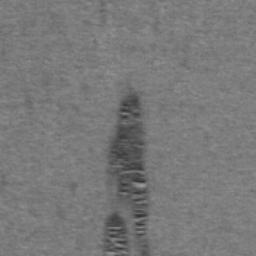Secondary rust skin: (108, 95, 148, 256), (104, 213, 130, 256)
